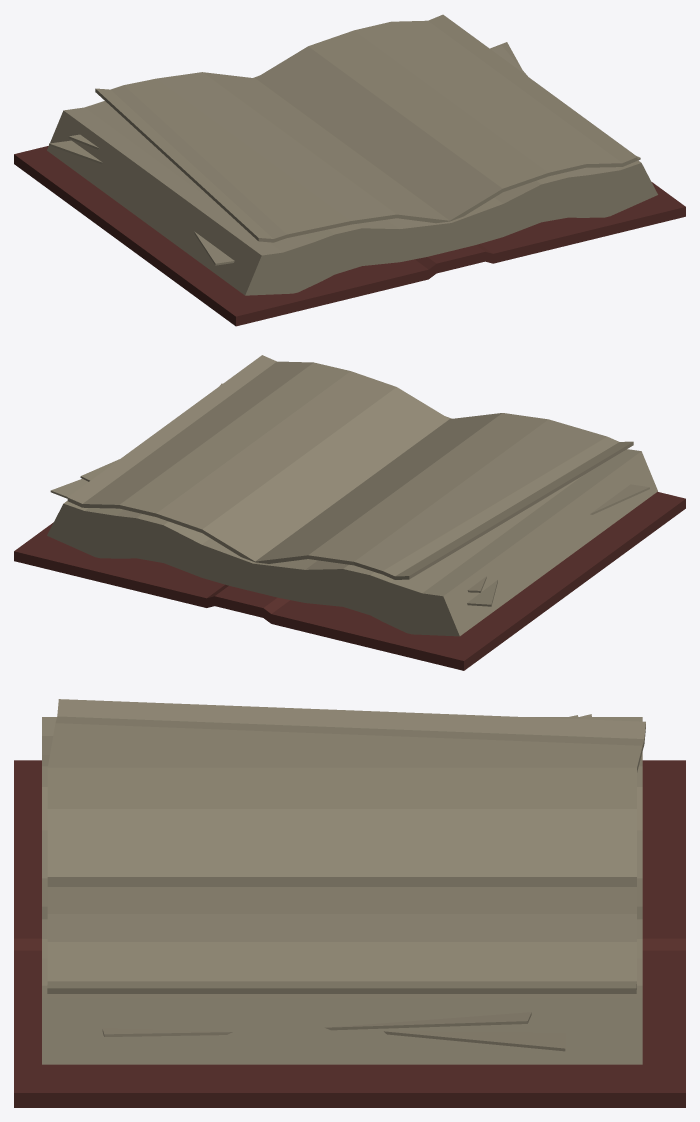
File: Book1_Open.glb
The picture shows the model from 3 angles, top to bottom: view 1: azimuth 30°, elevation 25°; view 2: azimuth 150°, elevation 25°; view 3: azimuth 270°, elevation 25°; orthographic projection. The views are drawn at different scales.
Parts seen in each view (by area): view 1: Book1_Open_Cube.106; view 2: Book1_Open_Cube.106; view 3: Book1_Open_Cube.106.
Boxes of the visible parts, x1,y1,x2,y2 form: Book1_Open_Cube.106: (14, 14, 685, 326); Book1_Open_Cube.106: (14, 355, 685, 670); Book1_Open_Cube.106: (14, 699, 685, 1107).
Size of the model in its own units: 0.873 by 0.1263 by 0.7401.
